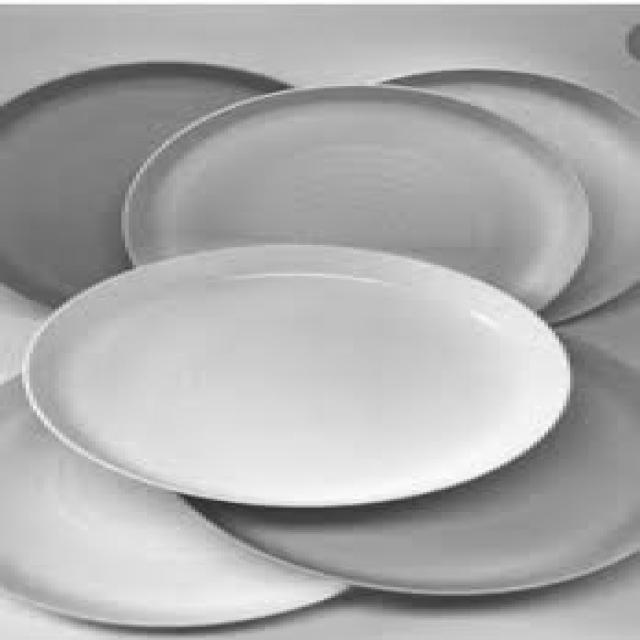dish: (6, 216, 614, 524)
